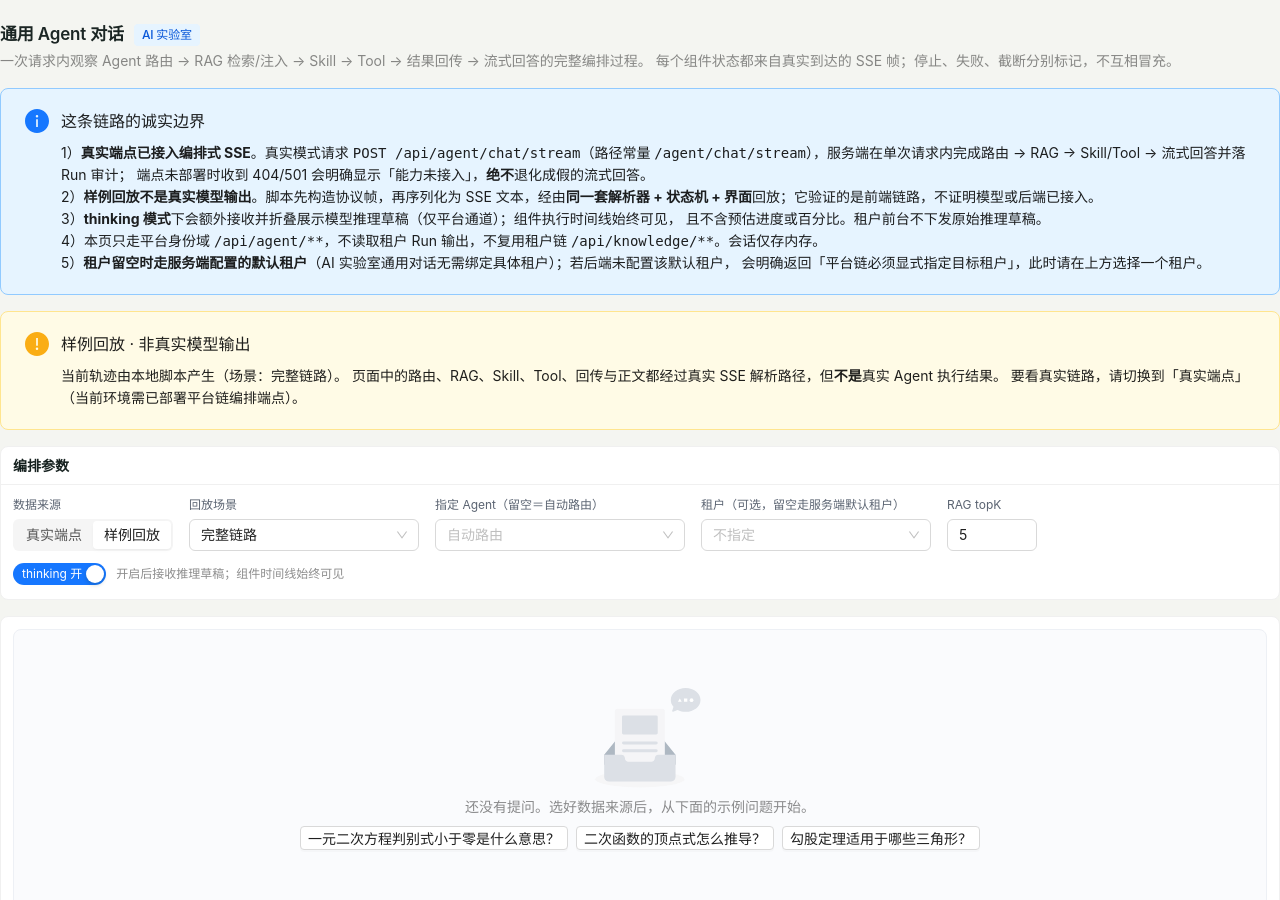
Test case: AgentChatPage · 样例回放闭环 › ✅ Skill 失败只是组件级错误：时间线标红但 Agent 仍降级给出回答
This screenshot has width=1280, height=900.
Press the mouse on the element showing "完整链路" at point(304, 535), box 189,519 -> 419,551
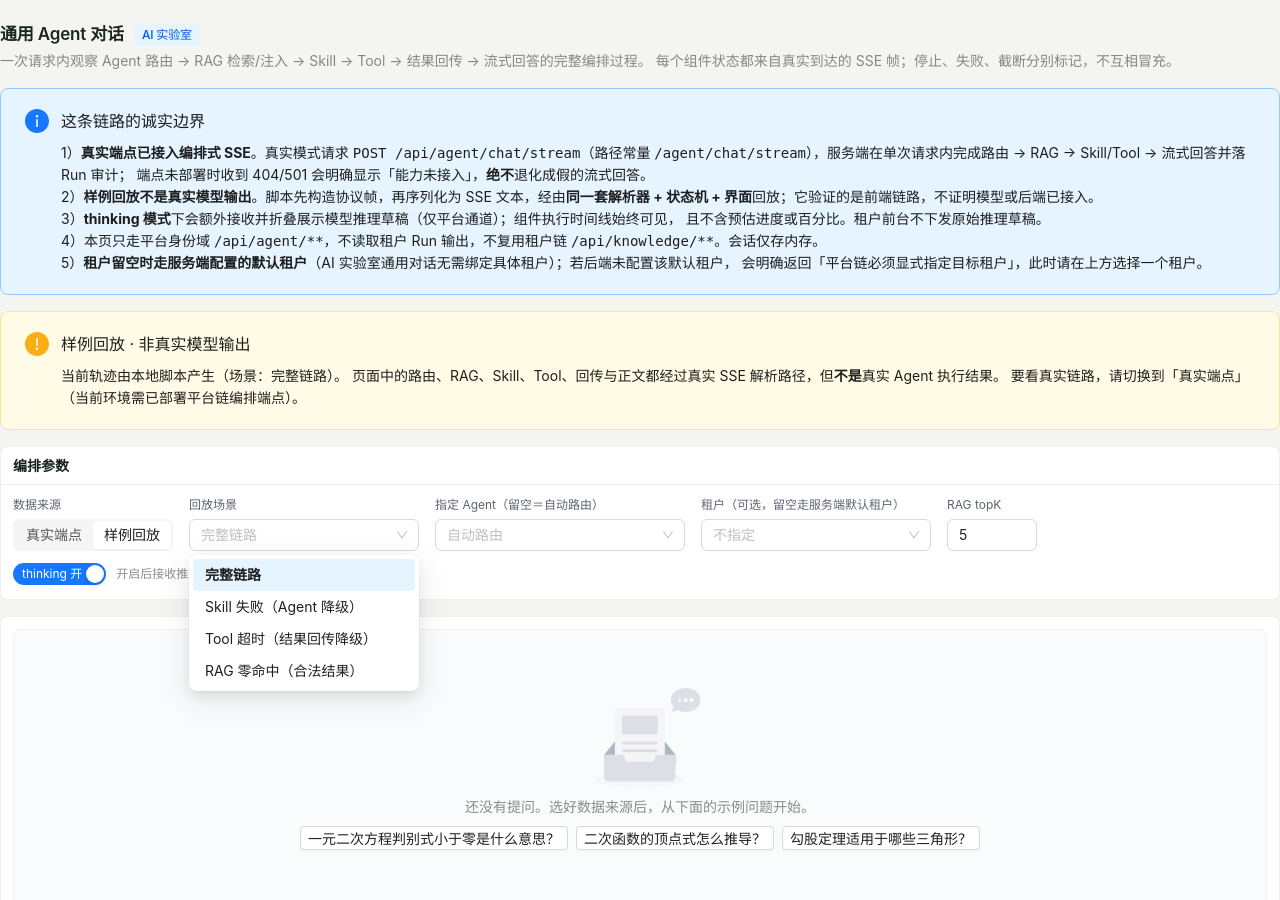
Now the text "Skill 失败（Agent 降级）" is shown
Click the text "Skill 失败（Agent 降级）". click: point(284, 606)
box: 205,598 -> 363,615
(page scrolled)
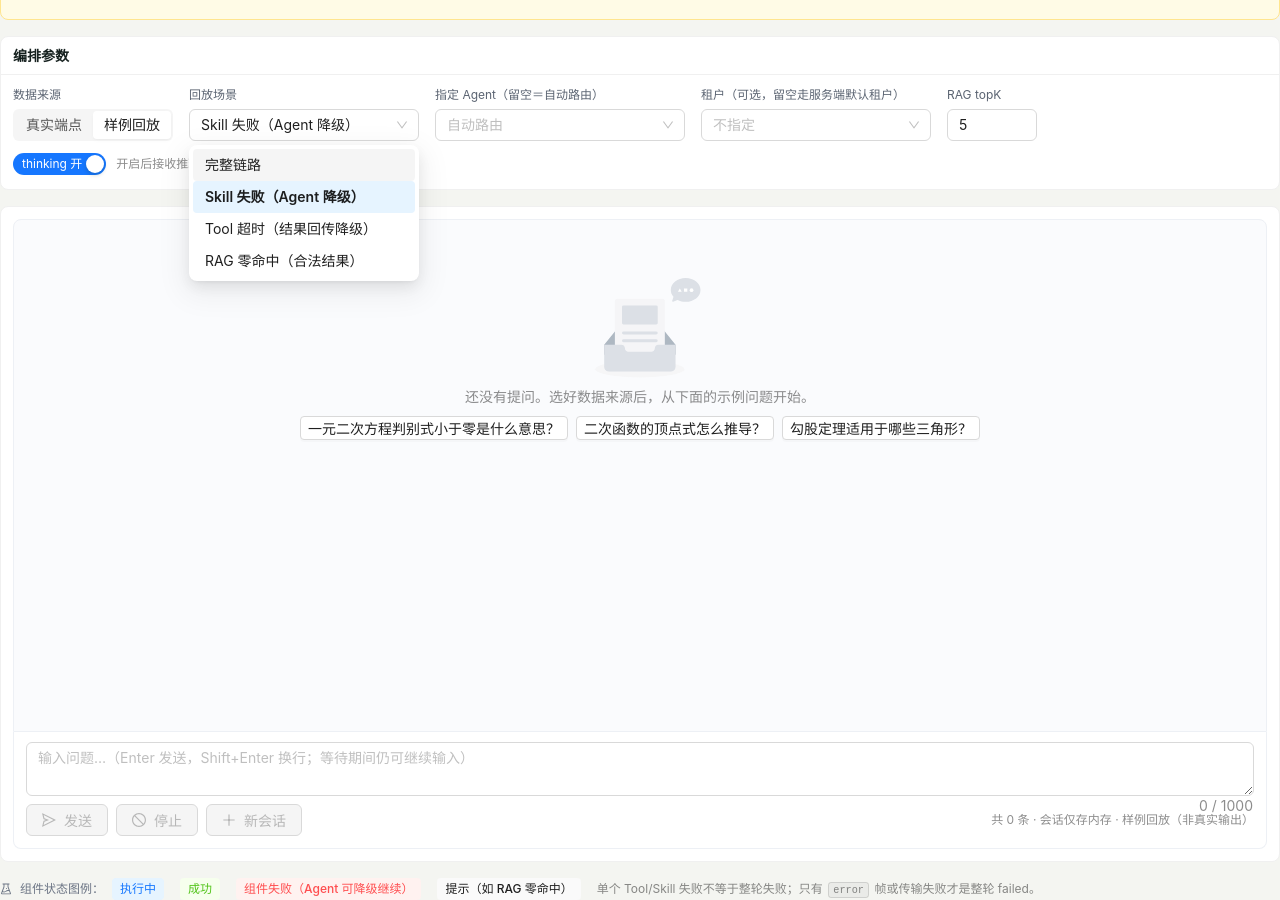
Type "判别式小于零是什么意思？" into the text box with placeholder "输入问题…（Enter 发送，Shift+Enter 换行；等待期间仍可继续输入）". click: point(640, 769)
box: 27,743 -> 1253,795
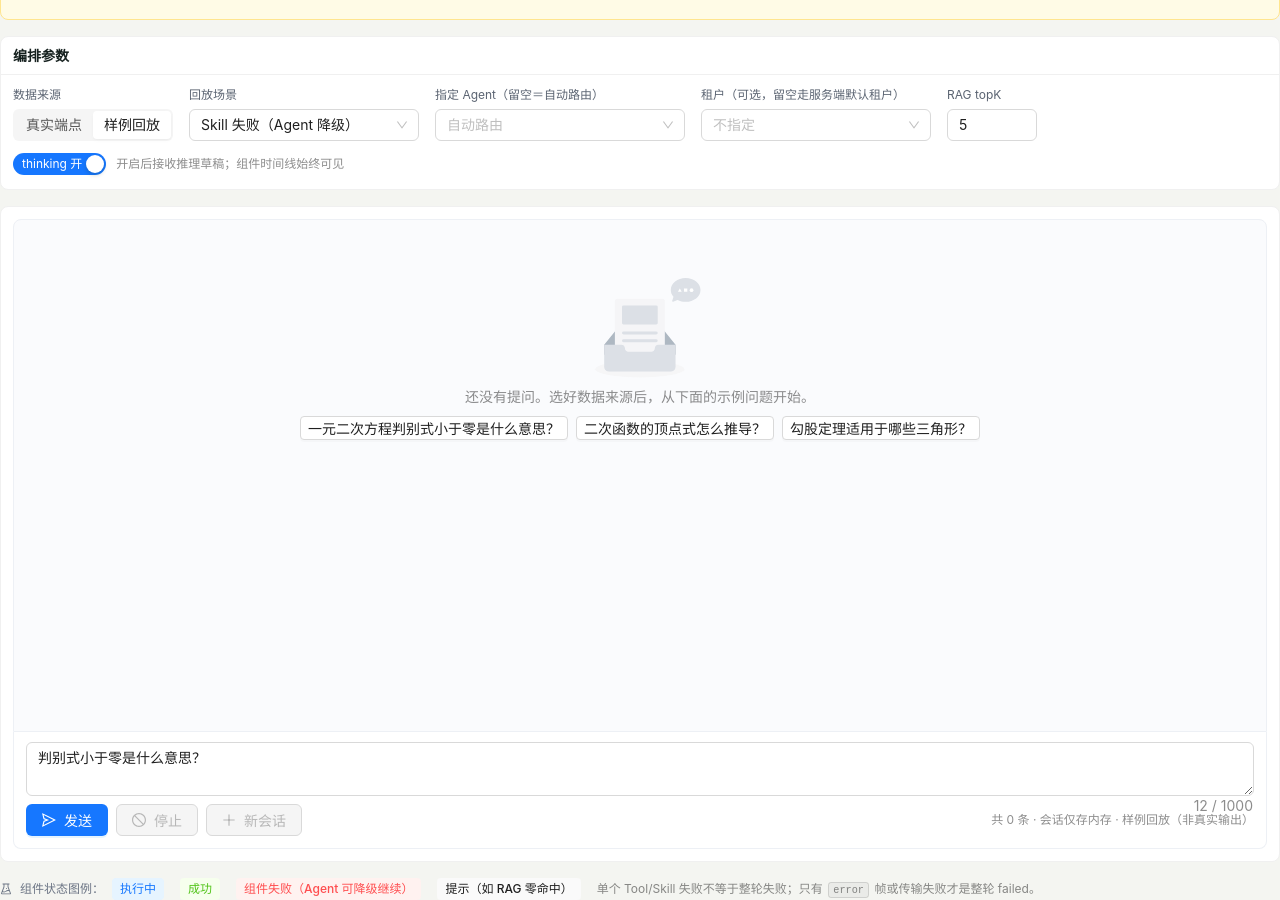
Now the button "发送" is enabled
Click the button "发送". click: point(67, 820)
box: 26,804 -> 108,836
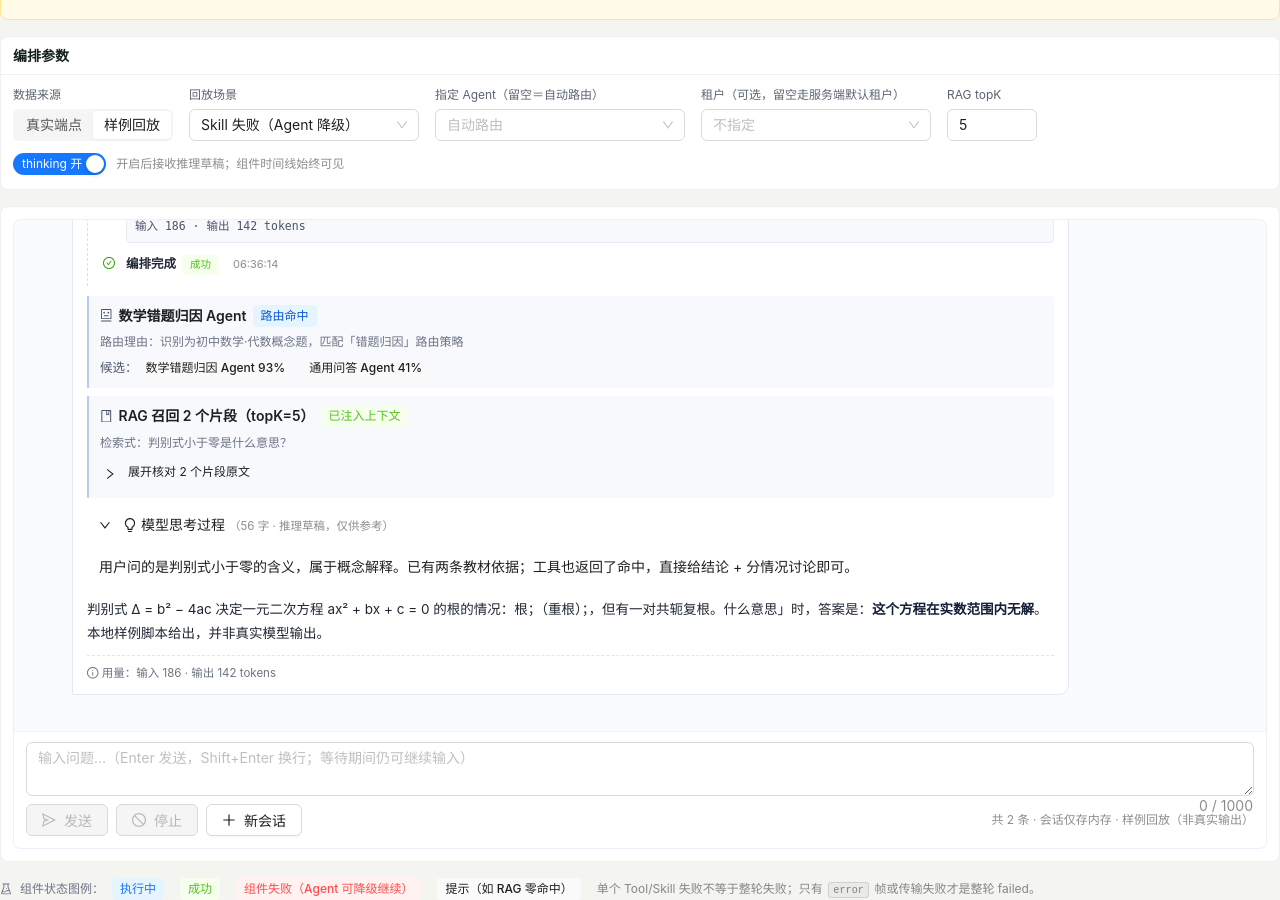
Now the element with test id "agent-chat-trace-step" shows "编排完成", box 126,256 -> 176,271
Now the element with test id "agent-chat-answer" is shown, box 87,598 -> 1054,645
